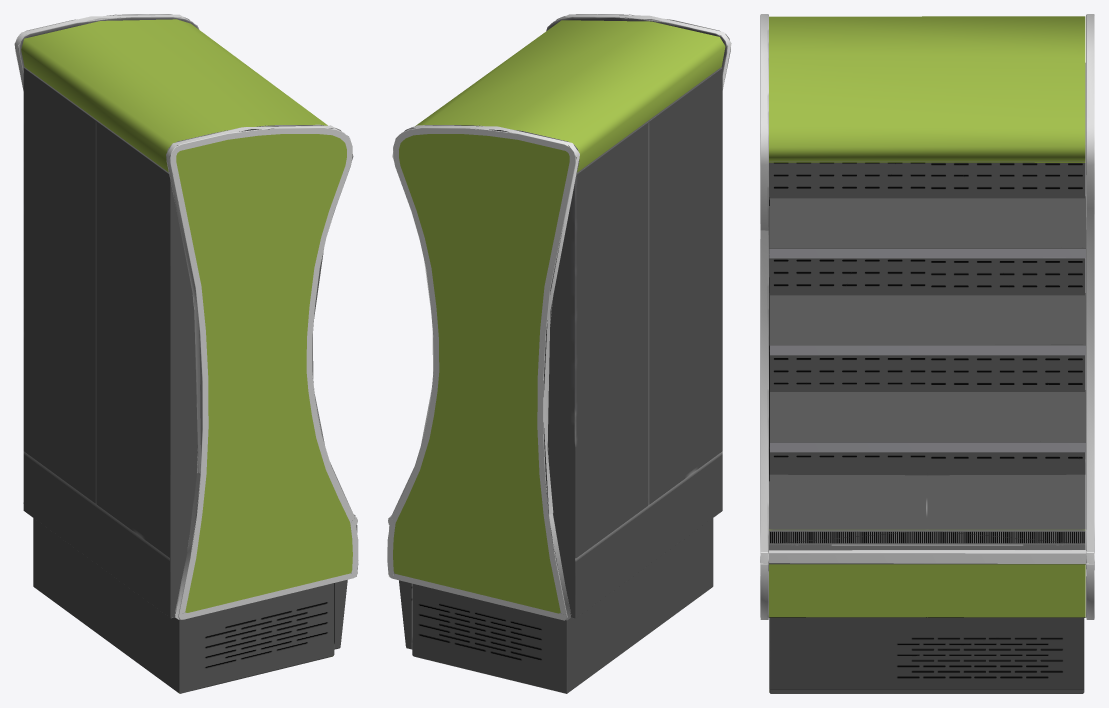
File: HeladeraPequenia.fbx
3 views of the same model, side by side, from view 1: azimuth 30°, elevation 25°; view 2: azimuth 150°, elevation 25°; view 3: azimuth 270°, elevation 25° (orthographic). The views are drawn at different scales.
Parts seen in each view (by area): view 1: export.004; view 2: export.004; view 3: export.004.
Boxes of the visible parts, x1,y1,x2,y2 form: export.004: (14, 14, 358, 693); export.004: (387, 14, 731, 693); export.004: (760, 14, 1094, 693).
Bounding box in the file's own units: 64.71 × 181 × 92.2.
1 material, 1 textured.
